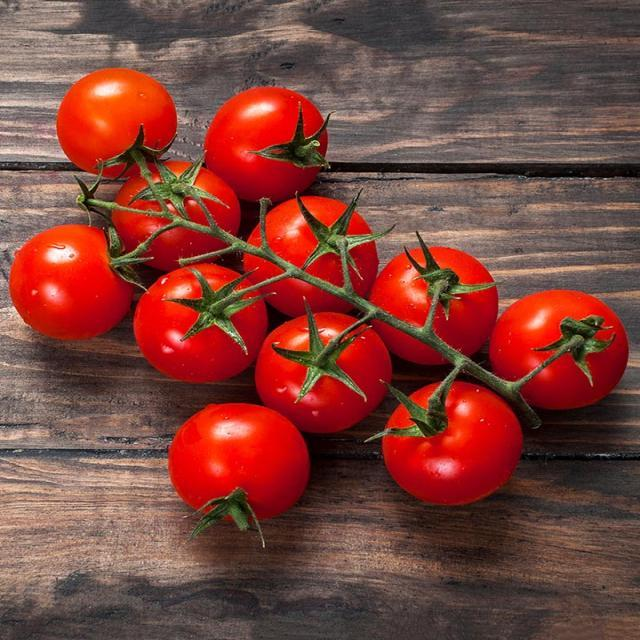kirmizi: (8, 44, 618, 540)
